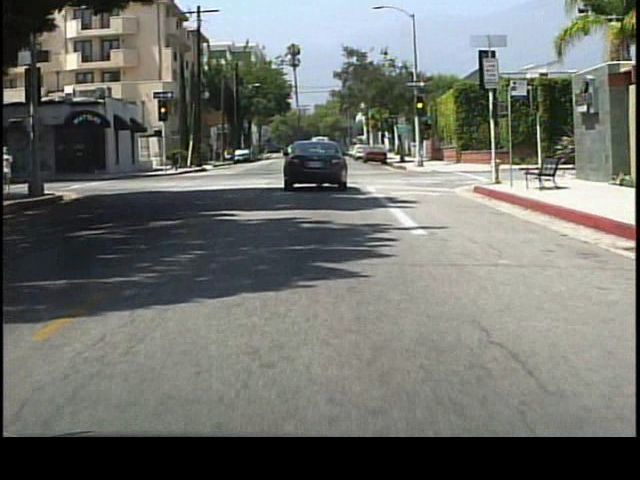person: (4, 144, 21, 194)
